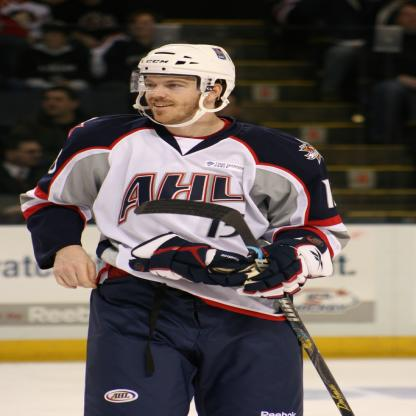Helmet: (127, 43, 236, 126)
